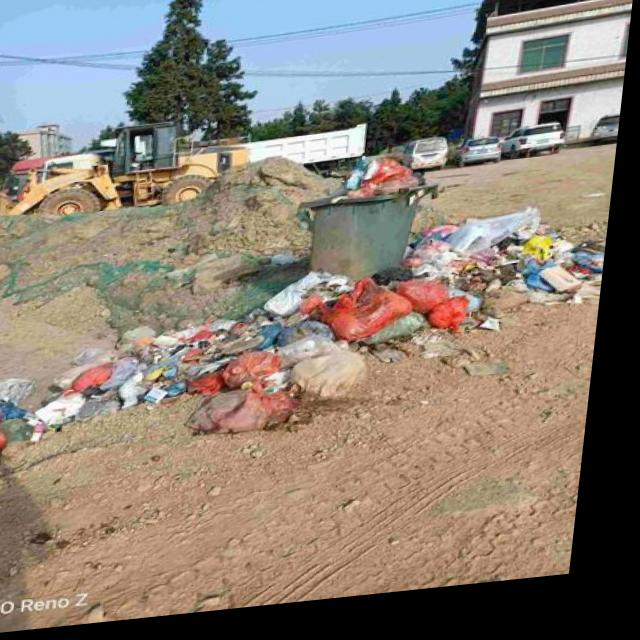garbage: (0, 210, 615, 479)
overflow: (298, 160, 447, 291)
